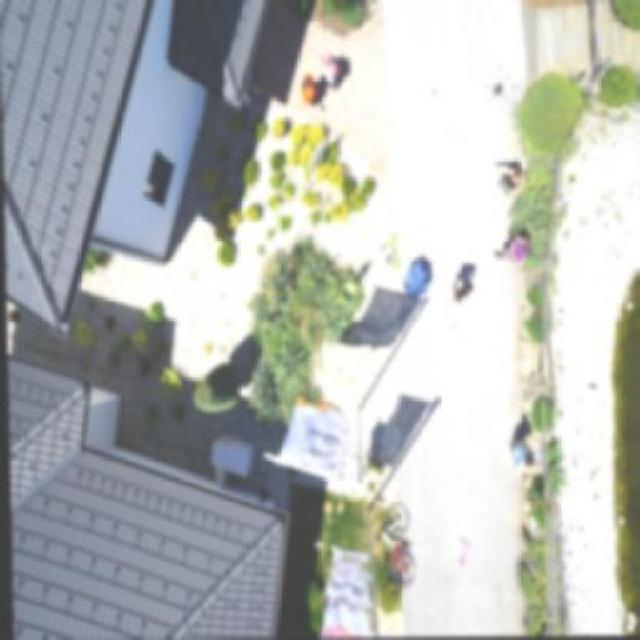Person: (498, 431, 537, 483), (491, 162, 532, 200), (491, 230, 535, 262), (323, 47, 345, 96), (449, 266, 478, 303), (301, 69, 324, 108)
